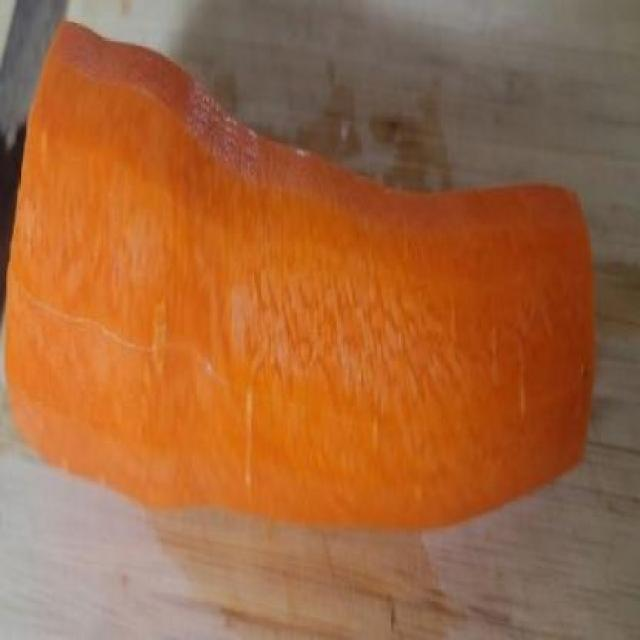carrot: (6, 15, 600, 548)
